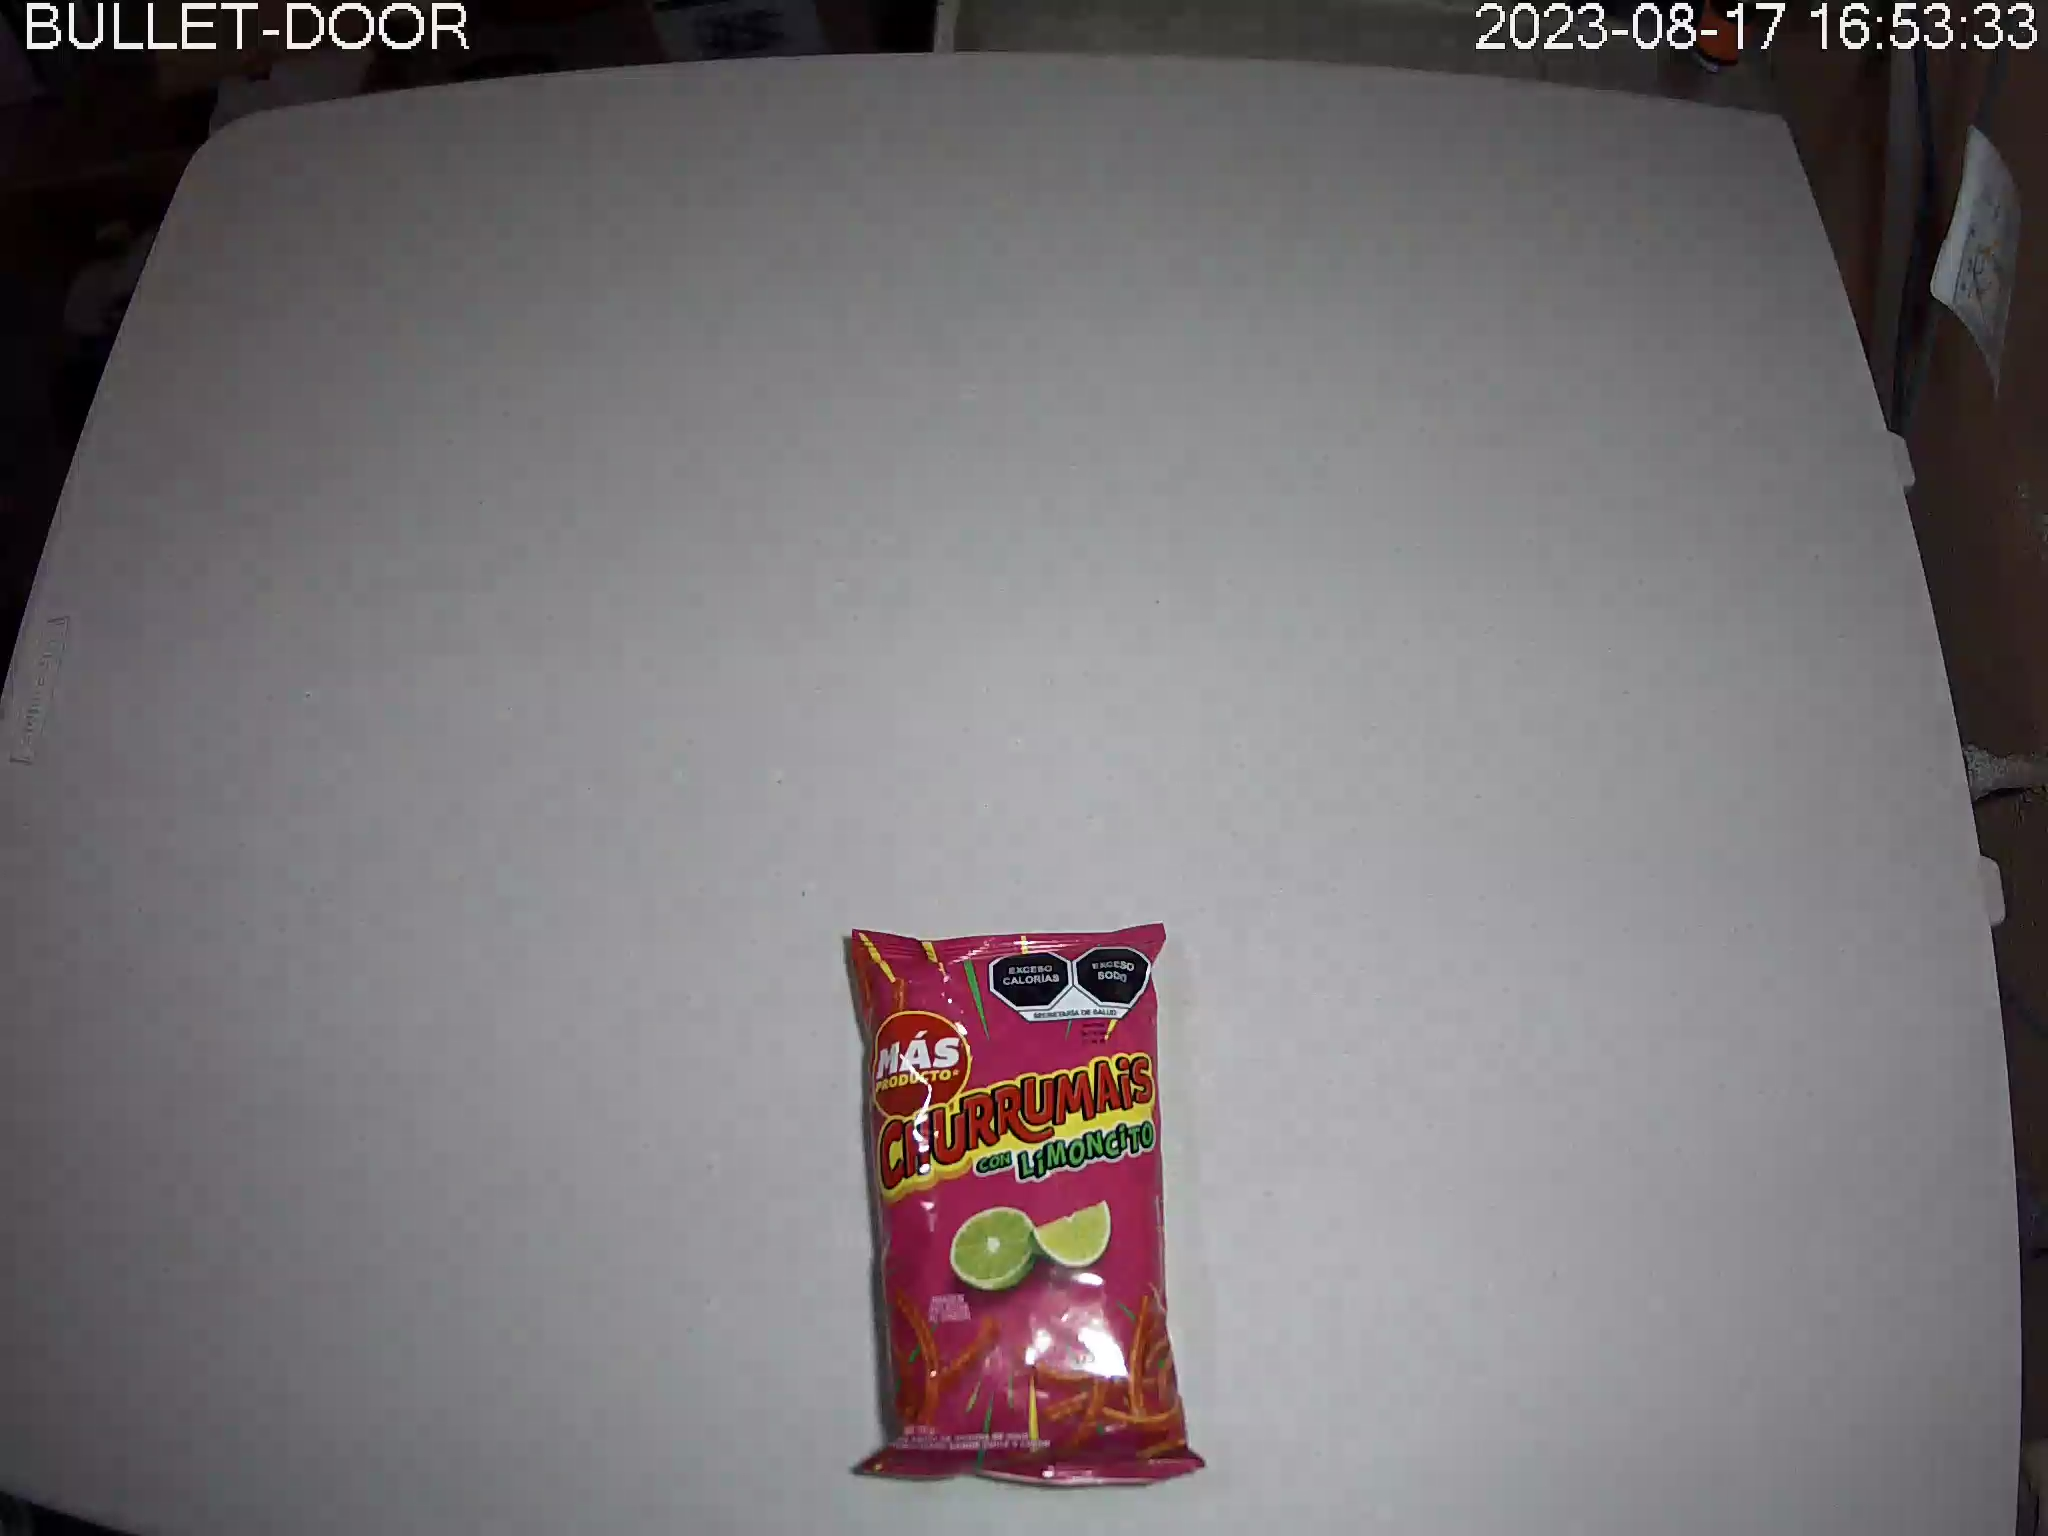Churrumais_70_F: (848, 920, 1209, 1491)
